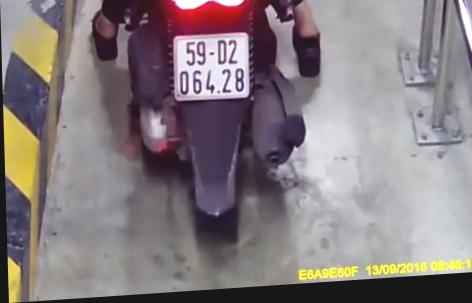License_Plate: (164, 29, 259, 103)
